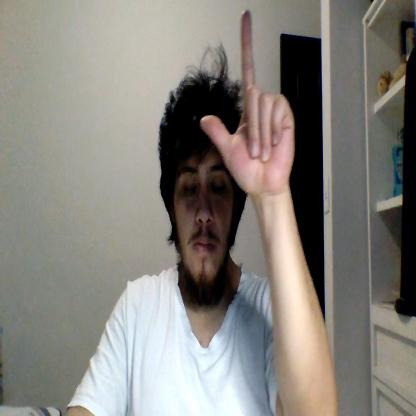L: (199, 10, 295, 193)
